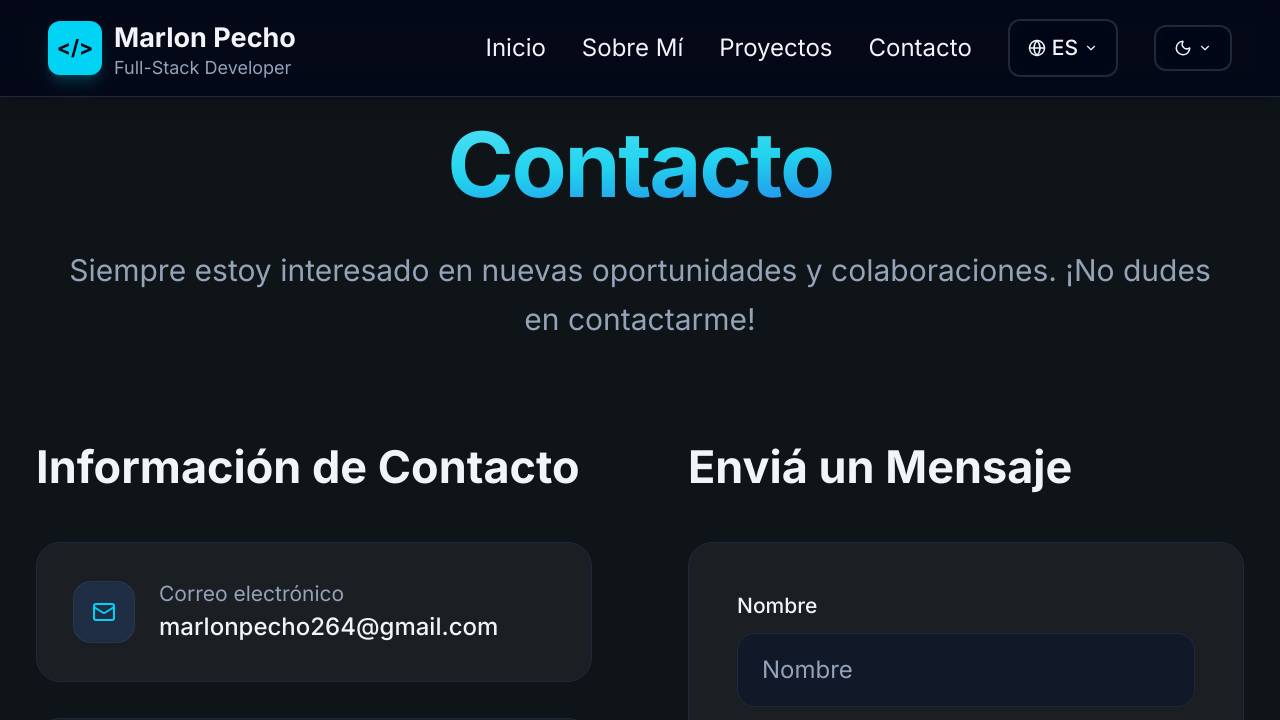
Contact Form › envía formulario correctamente (mockeando API)
Type "Test User" into the field with id "name" at x=966, y=670, box [737,633,1195,707]
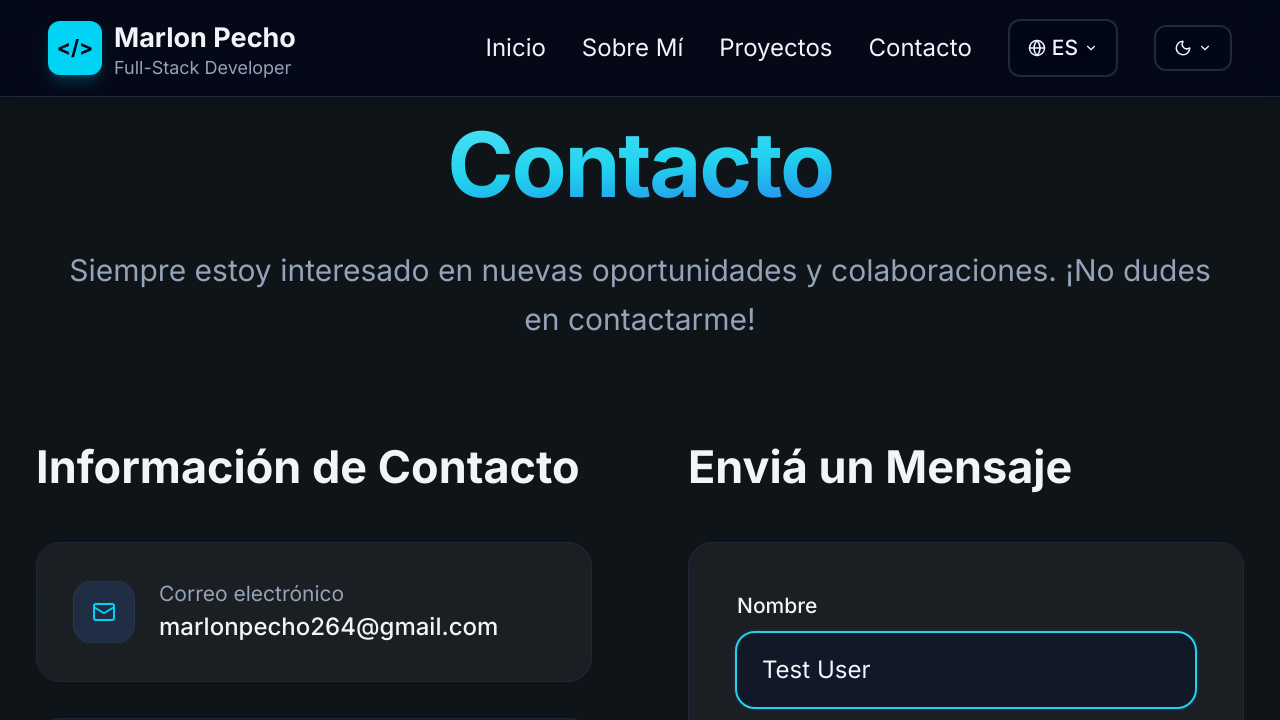
Scroll
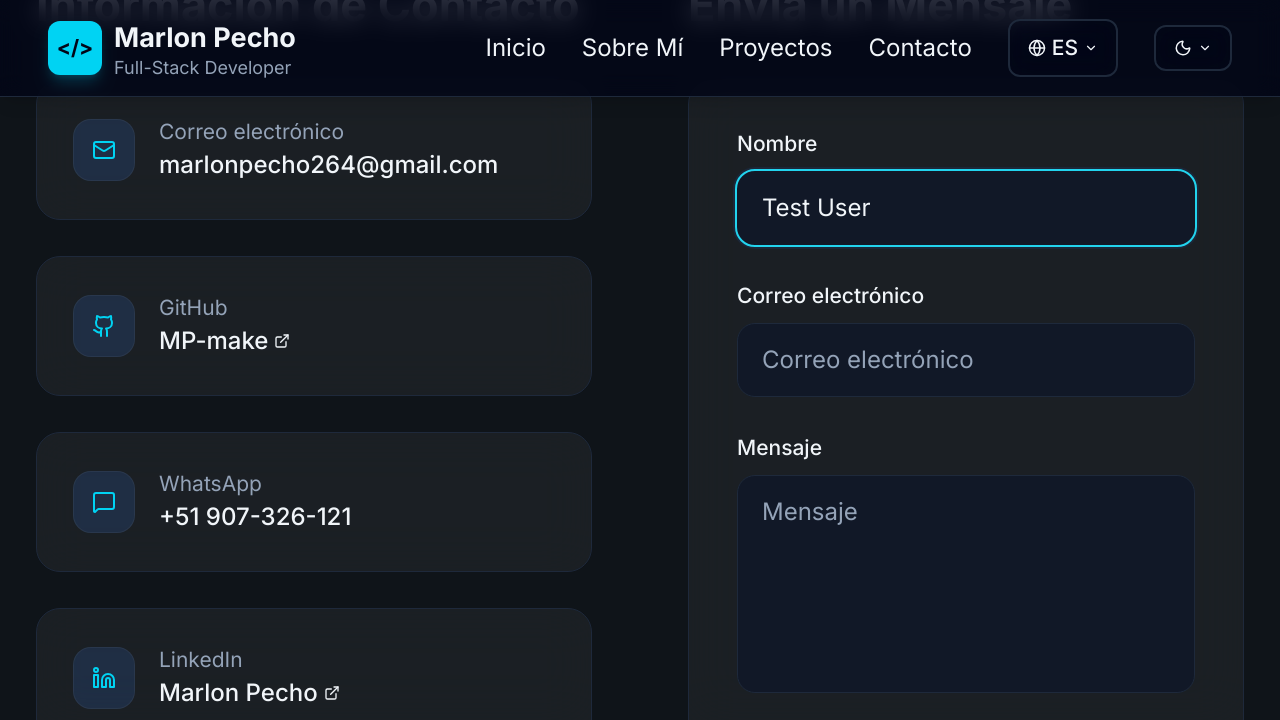
Type "test@example.com" into the field with id "email" at x=966, y=360, box [737,323,1195,397]
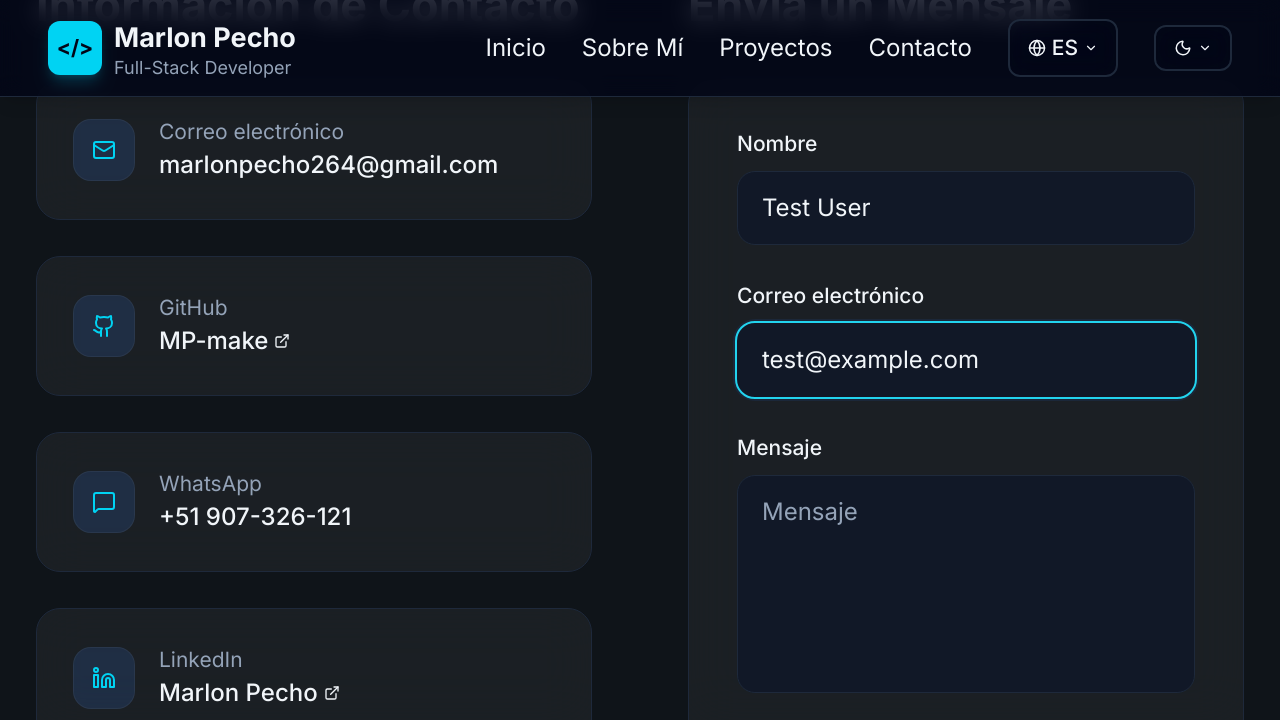
Type "Este es un mensaje de prueba desde Cypress." into the text box with id "message" at x=966, y=584, box [737,475,1195,693]
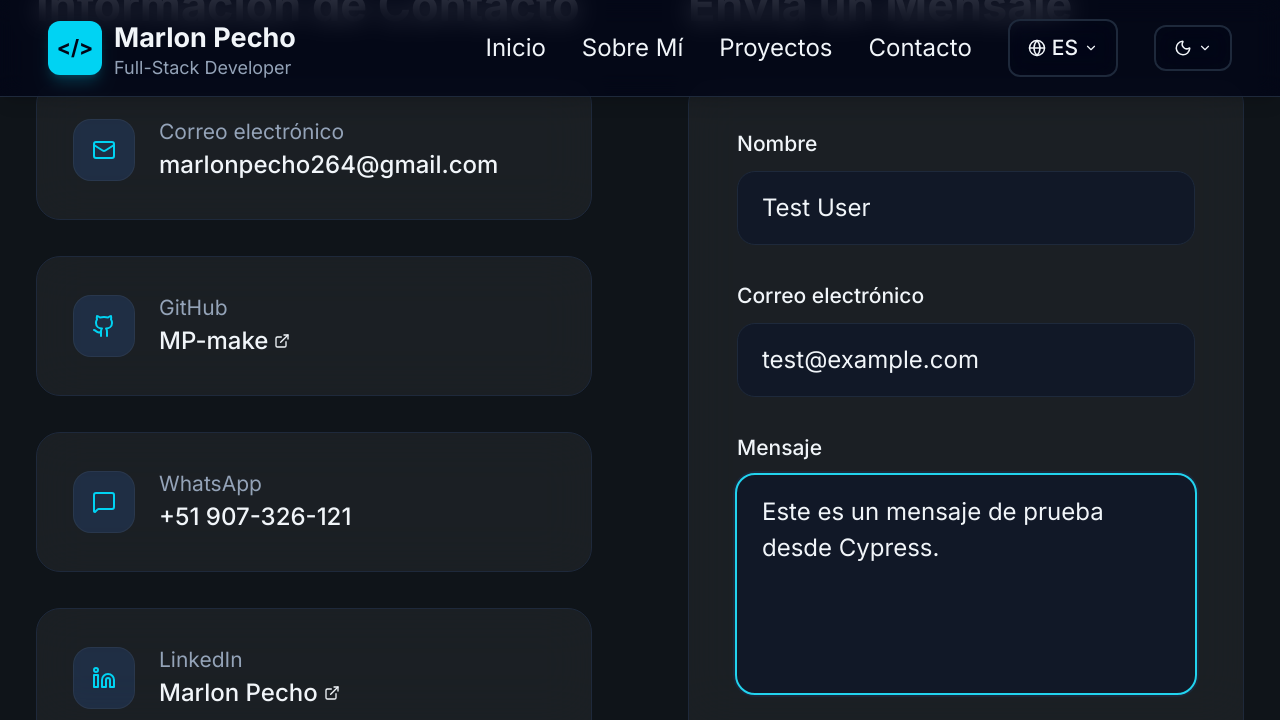
Scroll
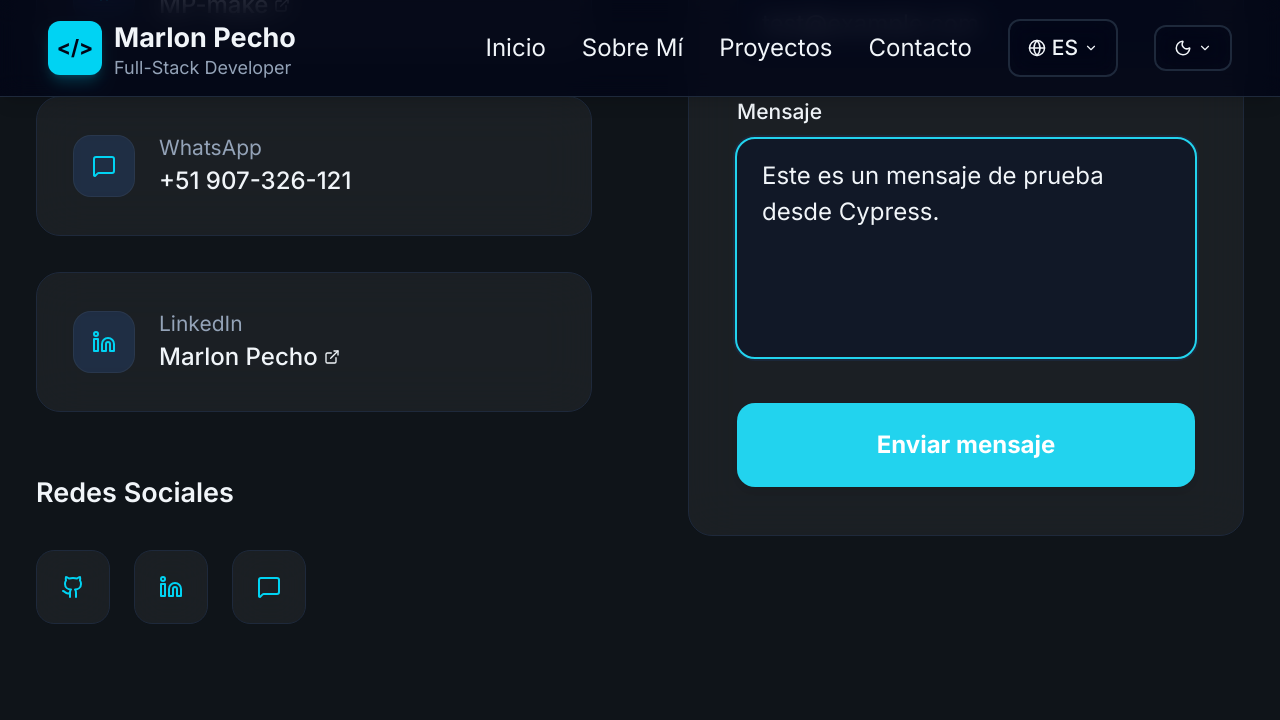
Click the submit button at x=966, y=445, box [737,403,1195,487]
(page scrolled)
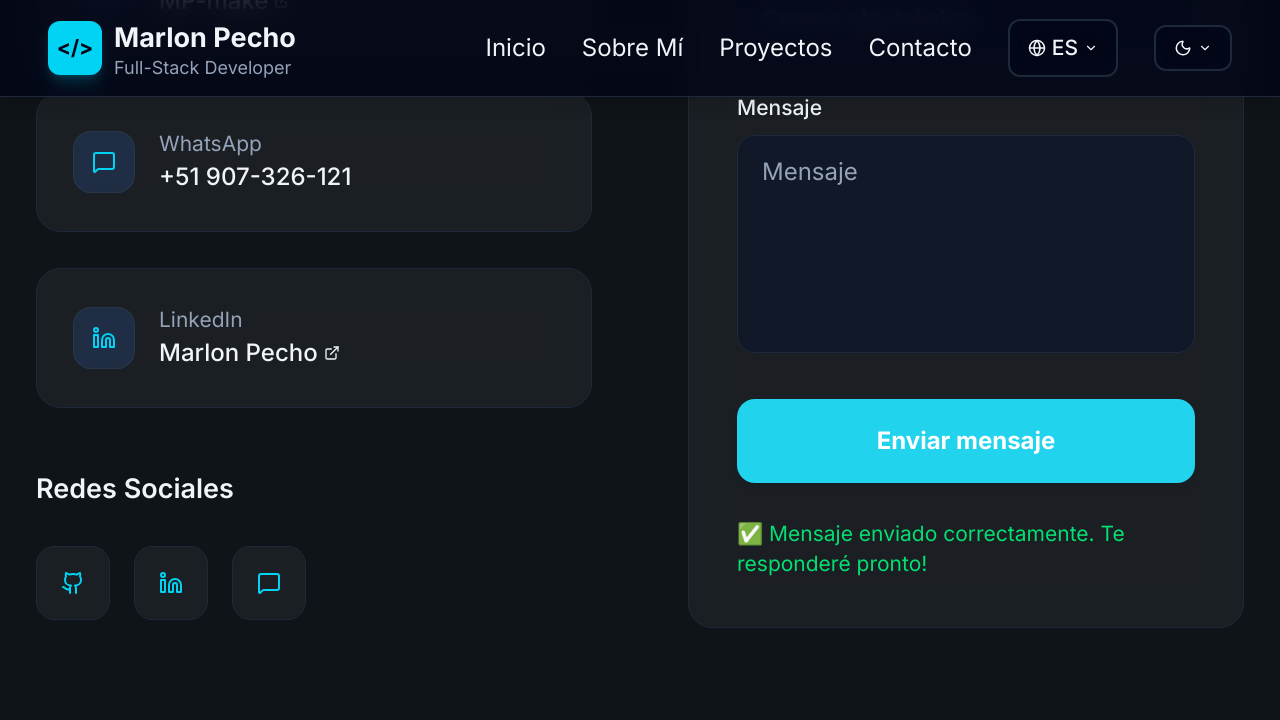
Expected: the text "✅ Mensaje enviado correctamente. Te responderé pronto!" is shown, [737,520,1125,576]
